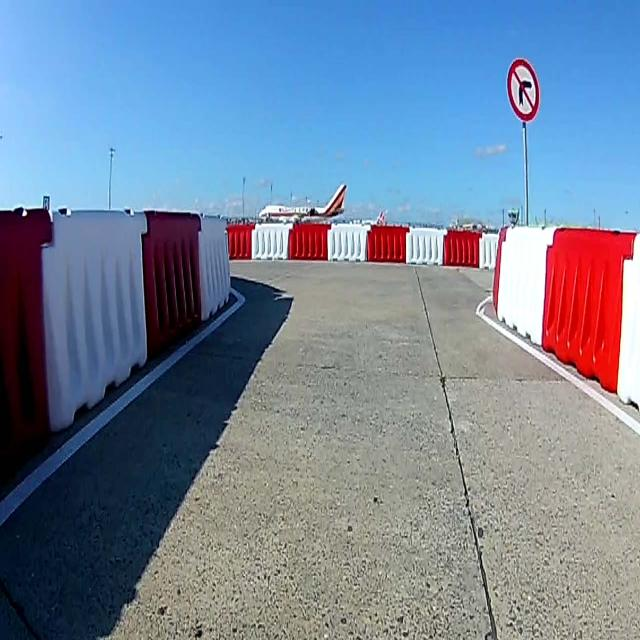sagadonulmez: (508, 60, 539, 122)
